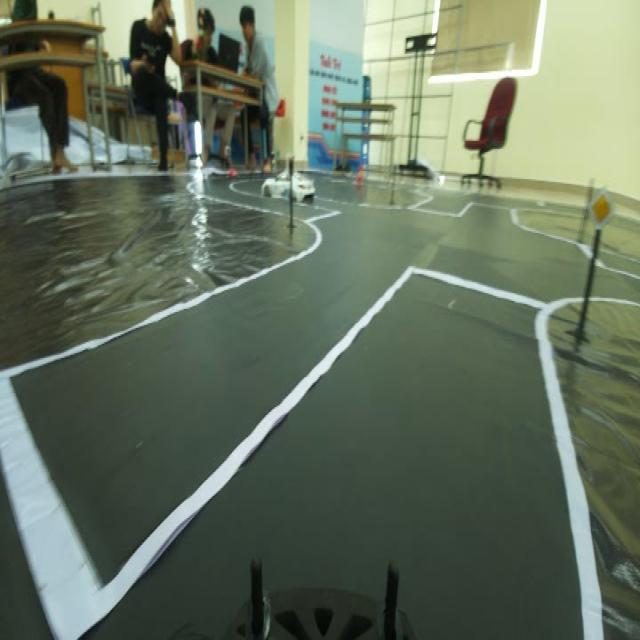priority: (588, 180, 614, 233)
